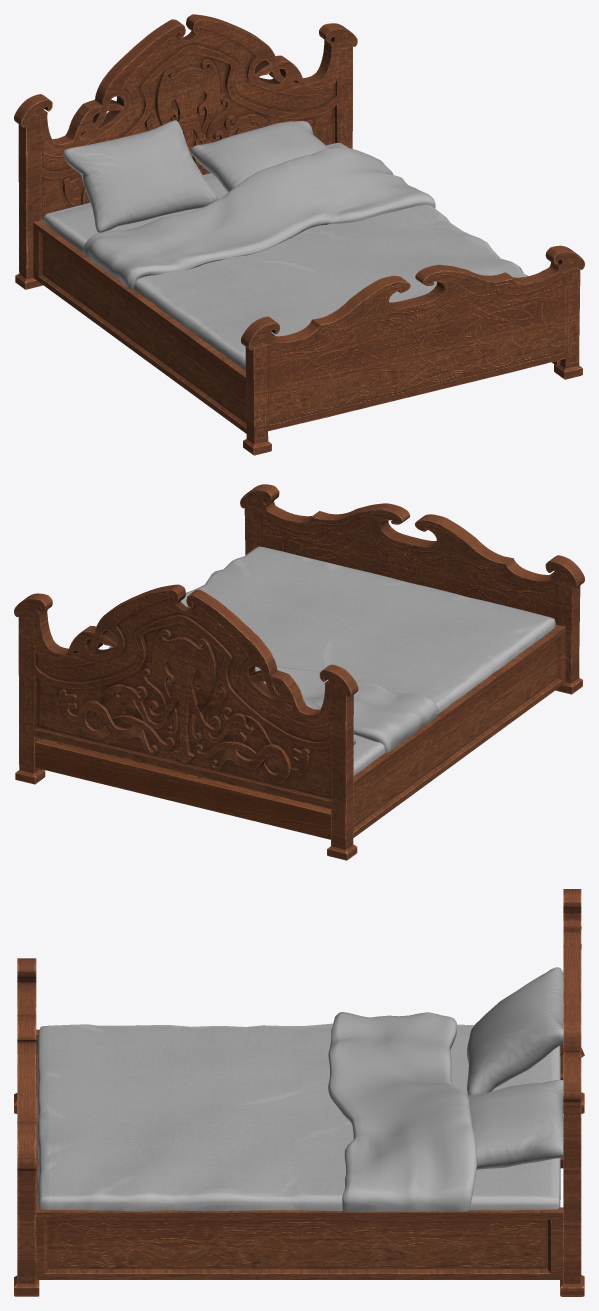
The model's file is wizard_bed.glb.
3 renders of one model, top to bottom at view 1: azimuth 30°, elevation 25°; view 2: azimuth 150°, elevation 25°; view 3: azimuth 270°, elevation 25°, orthographic. The views are drawn at different scales.
Visible parts, largest first — view 1: Object_5, Object_6, Object_3, Object_4, Object_8, Object_2, Object_7; view 2: Object_6, Object_3, Object_5, Object_2, Object_9, Object_7, Object_4; view 3: Object_3, Object_2, Object_4, Object_8, Object_5, Object_7, Object_6.
Part boxes in pixels (x1,y1,x2,y2): Object_5: [241, 245, 584, 455]; Object_6: [21, 17, 357, 278]; Object_3: [44, 143, 528, 370]; Object_4: [83, 147, 435, 289]; Object_8: [63, 120, 328, 232]; Object_2: [33, 219, 560, 433]; Object_7: [14, 14, 353, 289]; Object_6: [14, 584, 355, 849]; Object_3: [181, 546, 555, 775]; Object_5: [240, 484, 584, 694]; Object_2: [36, 624, 565, 837]; Object_9: [35, 739, 330, 839]; Object_7: [15, 585, 358, 860]; Object_4: [108, 646, 437, 752]; Object_3: [37, 1023, 560, 1211]; Object_2: [36, 1029, 563, 1279]; Object_4: [328, 1012, 477, 1212]; Object_8: [466, 967, 563, 1169]; Object_5: [14, 958, 39, 1296]; Object_7: [560, 889, 584, 1296]; Object_6: [560, 889, 584, 1087].
Bounding box in the file's own units: 1.79 × 1.15 × 2.18.
7 materials, 7 textured.
